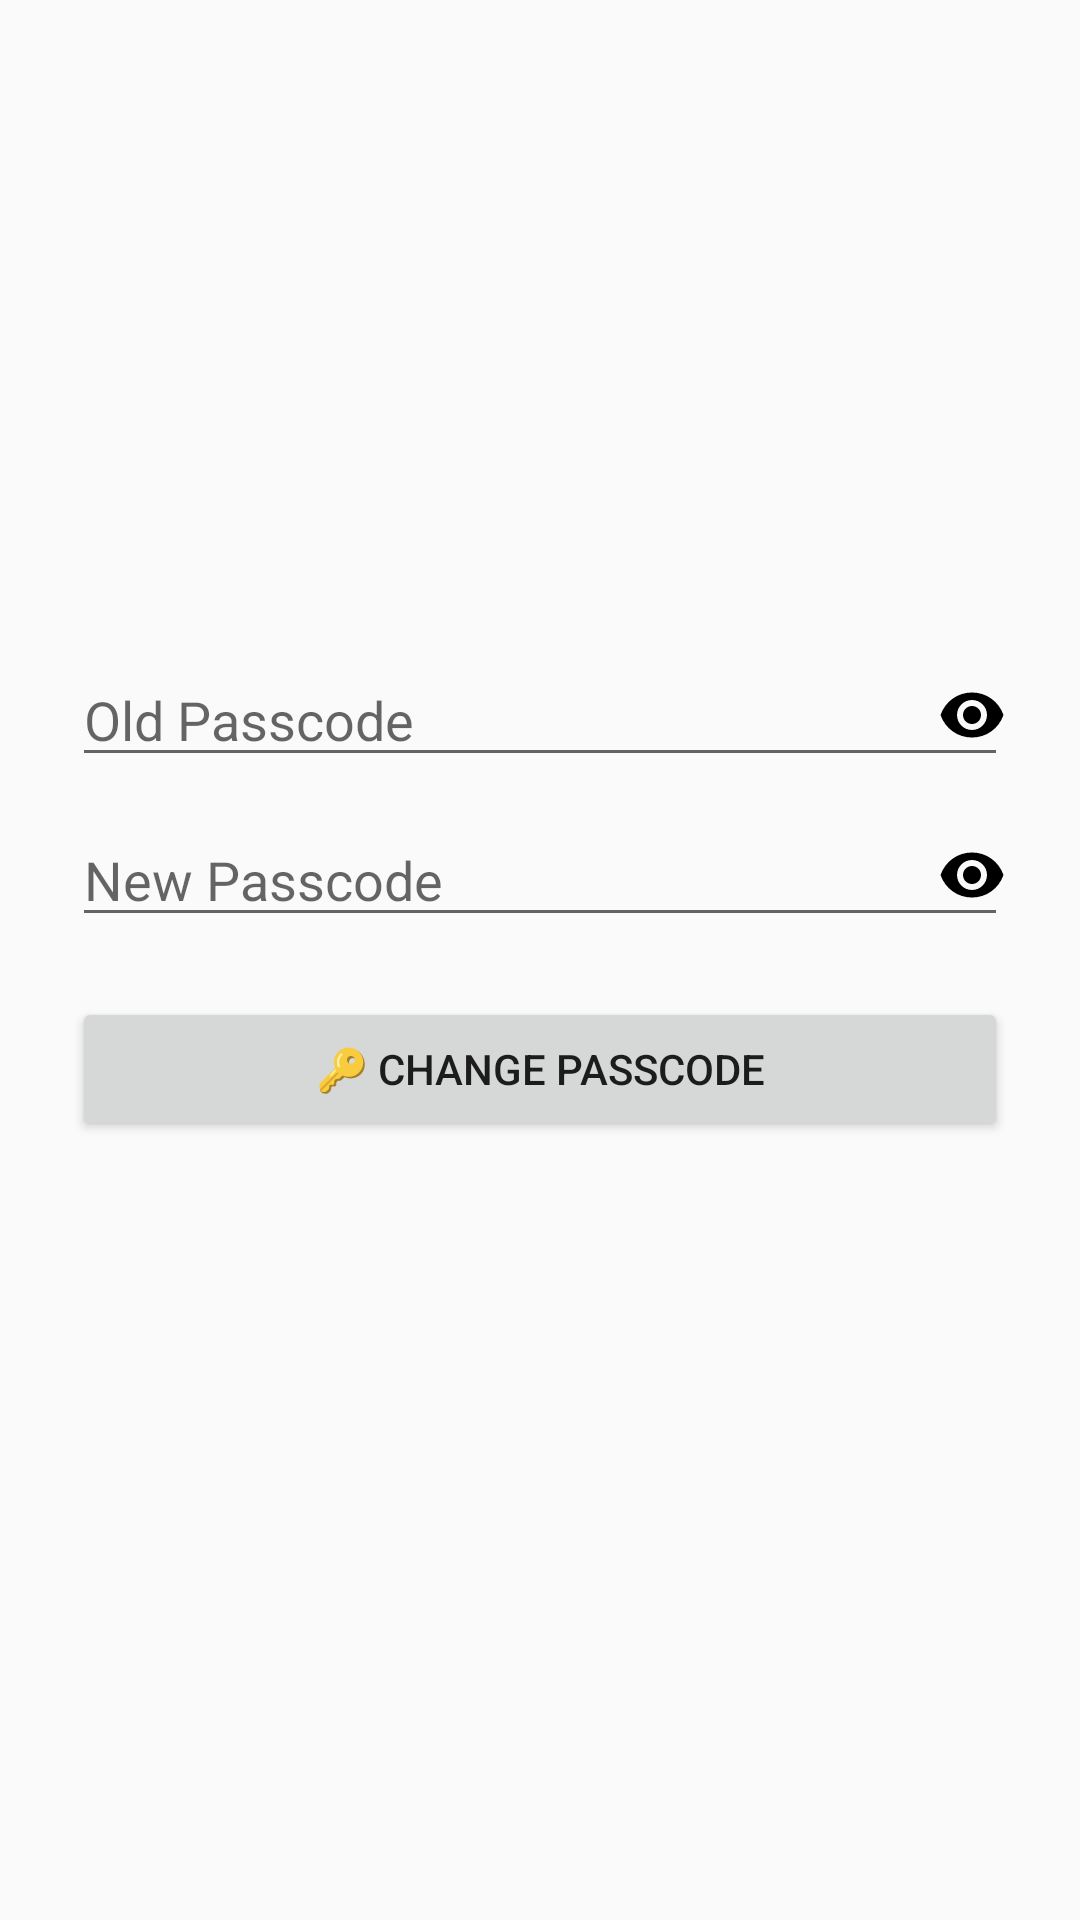

Named icons in this screenshot (1080 × 1920) and their centers, (x=x, y=y):
Toggle password visibility: (x=972, y=715), (x=972, y=875)
